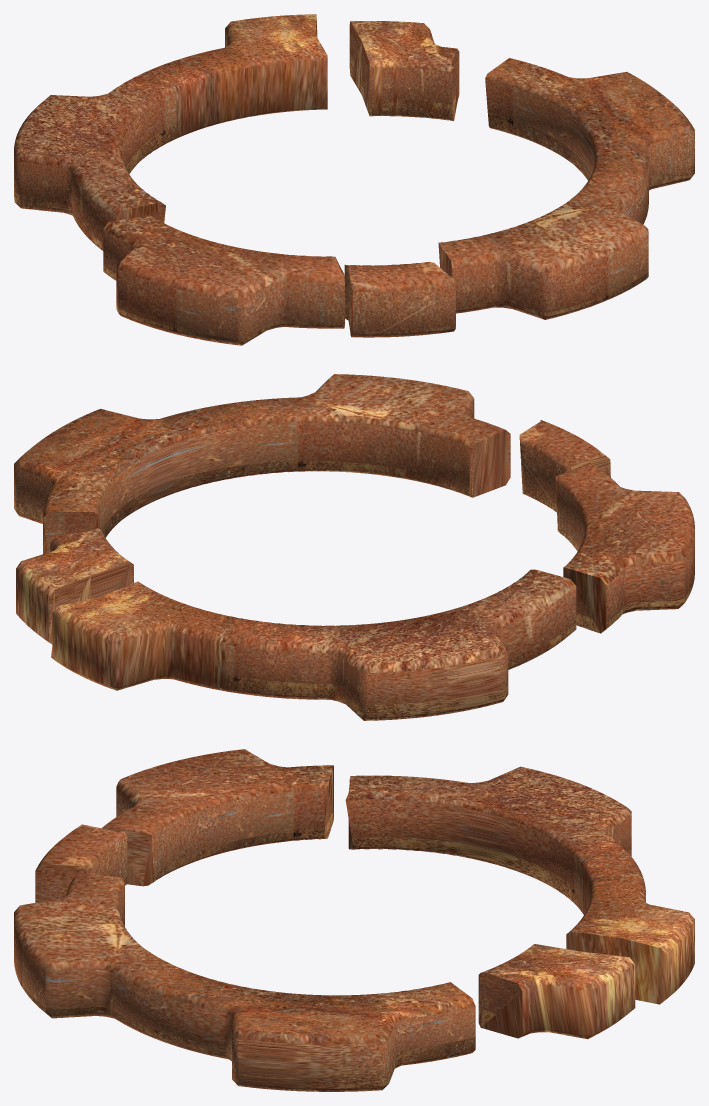
File: 割れた歯車5Ａ.fbx
3 views of the same model, one above another, from view 1: azimuth 30°, elevation 25°; view 2: azimuth 150°, elevation 25°; view 3: azimuth 270°, elevation 25° (orthographic). The views are drawn at different scales.
Parts seen in each view (by area): view 1: 破片1, 破片4, 破片3, 破片5, 破片2; view 2: 破片4, 破片1, 破片3, 破片5, 破片2; view 3: 破片1, 破片4, 破片3, 破片5, 破片2.
Part boxes in pixels (x1=…): 破片1: x1=438, y1=58, x2=694, y2=319; 破片4: x1=14, y1=14, x2=327, y2=250; 破片3: x1=103, y1=215, x2=344, y2=345; 破片5: x1=349, y1=21, x2=459, y2=121; 破片2: x1=127, y1=261, x2=455, y2=337; 破片4: x1=51, y1=569, x2=576, y2=720; 破片1: x1=14, y1=374, x2=510, y2=553; 破片3: x1=555, y1=462, x2=694, y2=633; 破片5: x1=16, y1=528, x2=133, y2=644; 破片2: x1=519, y1=420, x2=688, y2=596; 破片1: x1=14, y1=873, x2=475, y2=1091; 破片4: x1=345, y1=766, x2=694, y2=1004; 破片3: x1=102, y1=749, x2=333, y2=886; 破片5: x1=478, y1=944, x2=635, y2=1039; 破片2: x1=35, y1=824, x2=127, y2=902.
Bounding box in the file's own units: 248 × 22.03 × 244.
Materials: 5 (5 with a texture image).
